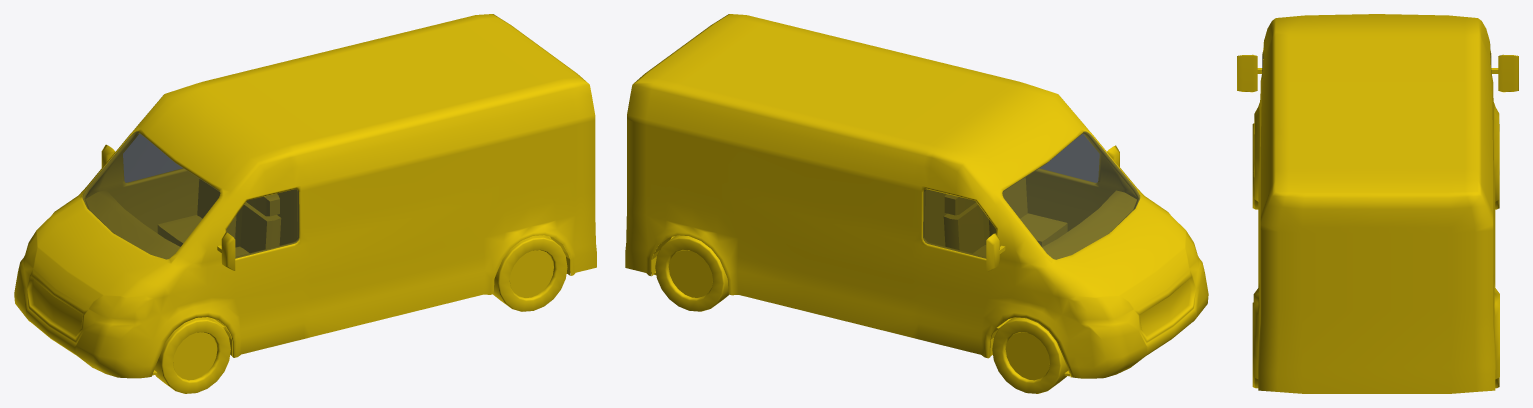
The model's file is Van_01_Lod0.fbx.
The picture shows the model from 3 angles, left to right: view 1: azimuth 30°, elevation 25°; view 2: azimuth 150°, elevation 25°; view 3: azimuth 270°, elevation 25°; orthographic projection. The views are drawn at different scales.
Parts seen in each view (by area): view 1: Van_01_Lod0; view 2: Van_01_Lod0; view 3: Van_01_Lod0.
Part boxes in pixels (box(x1,y1,x2,y2)): Van_01_Lod0: box(14, 14, 596, 393); Van_01_Lod0: box(625, 14, 1208, 393); Van_01_Lod0: box(1237, 14, 1518, 393).
Size of the model in its own units: 664 by 266 by 297.
